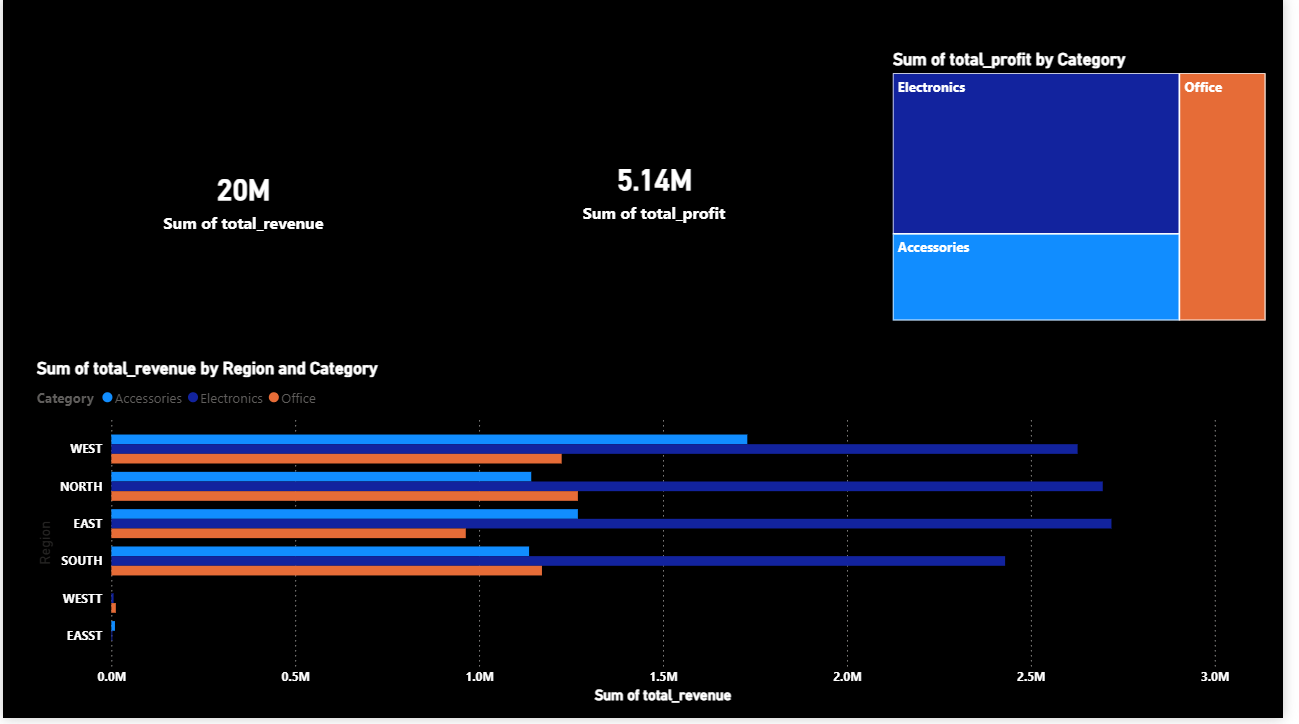

The dashboard page shown, as its layout file describes it:
{"tool":"powerbi","page":{"name":"Page 1","canvas":[1280,720],"ordinal":0},"visuals":[{"type":"card","fields":{"Values":["Sum(Athena result.total_revenue)"]},"box":[28.8,21.6,423.9,359],"z":0},{"type":"clusteredBarChart","fields":{"Category":["Athena result.Region"],"Y":["Sum(Athena result.total_revenue)"],"Series":["Athena result.Category"]},"box":[28.8,360.2,1203.2,350.6],"z":1000},{"type":"card","fields":{"Values":["Sum(Athena result.total_profit)"]},"box":[452.7,21.6,397.4,338.6],"z":2000},{"type":"treemap","fields":{"Group":["Athena result.Category"],"Values":["Sum(Athena result.total_profit)"]},"box":[885,51.2,382.5,276.2],"z":3000}]}

Visuals, with their boxes in screenshot pixels (x1, y1, x2, y2), scaled from the page's 1280x720 canvas onto the 1299x724 screenshot:
card - Sum(Athena result.total_revenue): Rect(29, 22, 459, 383)
clusteredBarChart - Athena result.Region x Sum(Athena result.total_revenue): Rect(29, 362, 1250, 715)
card - Sum(Athena result.total_profit): Rect(459, 22, 863, 362)
treemap - Athena result.Category x Sum(Athena result.total_profit): Rect(898, 51, 1286, 329)
